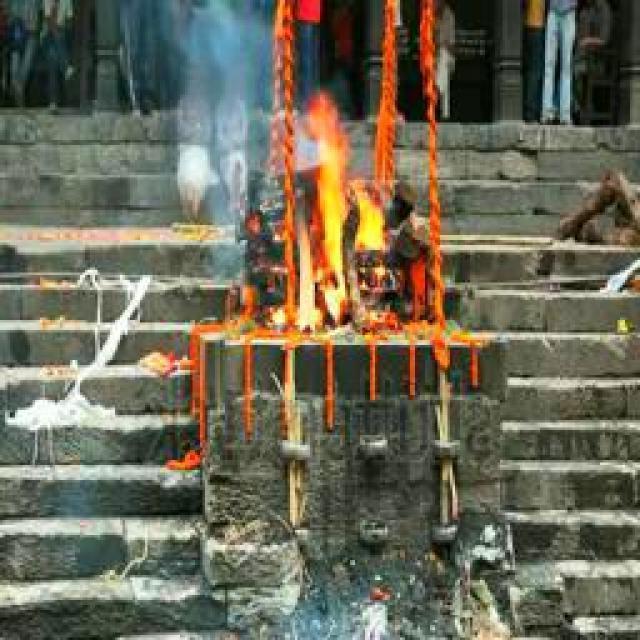Fire: (290, 116, 386, 340)
